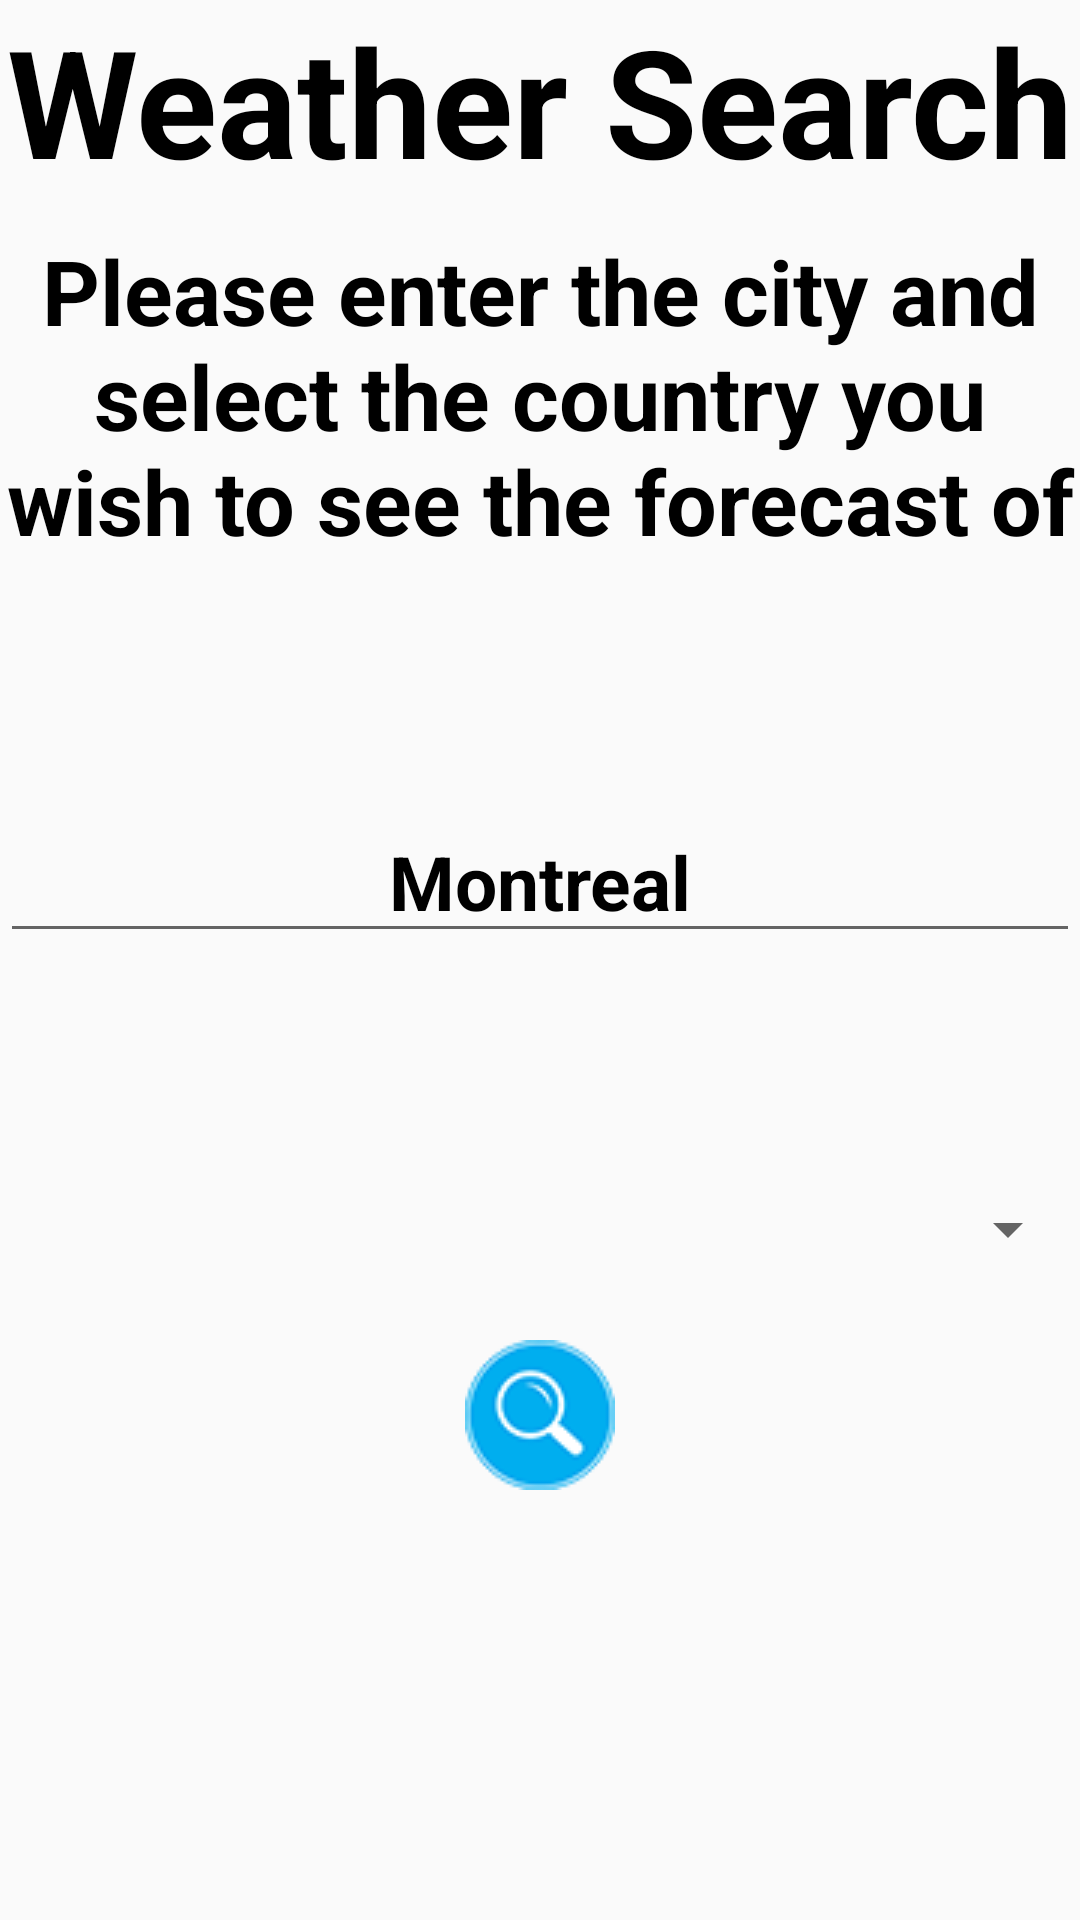

Icon click points for this 1080 x 1920 phone screenshot, format point (x, y):
search: point (540, 1415)
